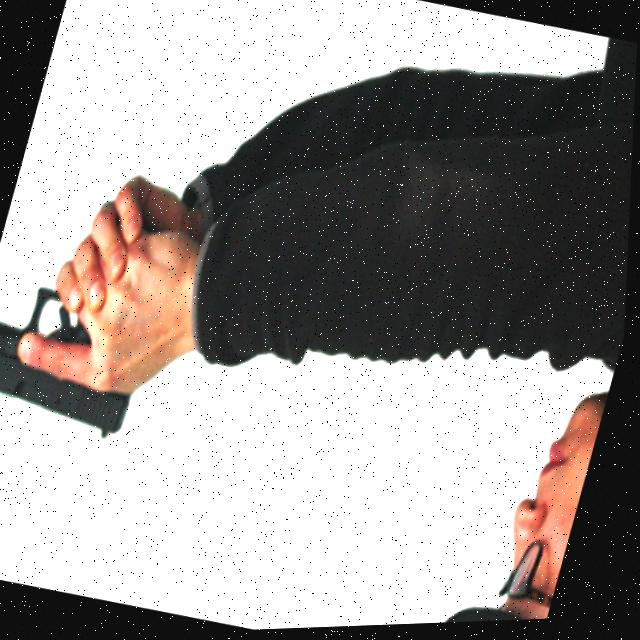pistol: (0, 269, 162, 449)
